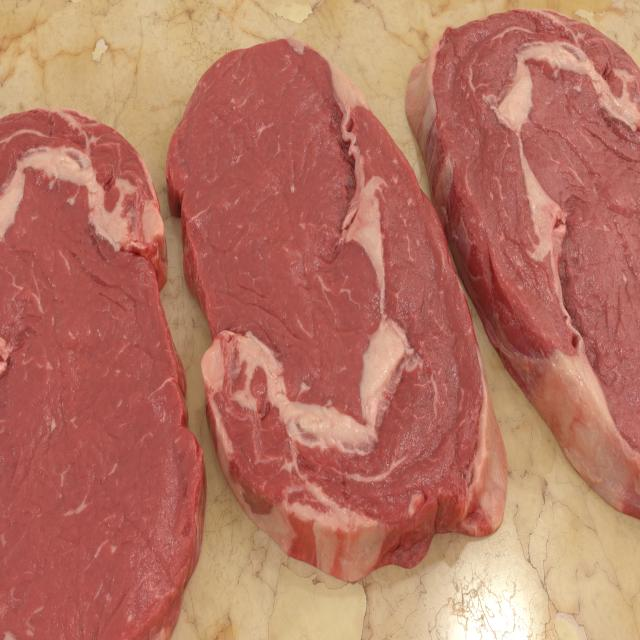beef: (205, 61, 424, 524), (4, 117, 175, 604), (453, 45, 637, 447)
